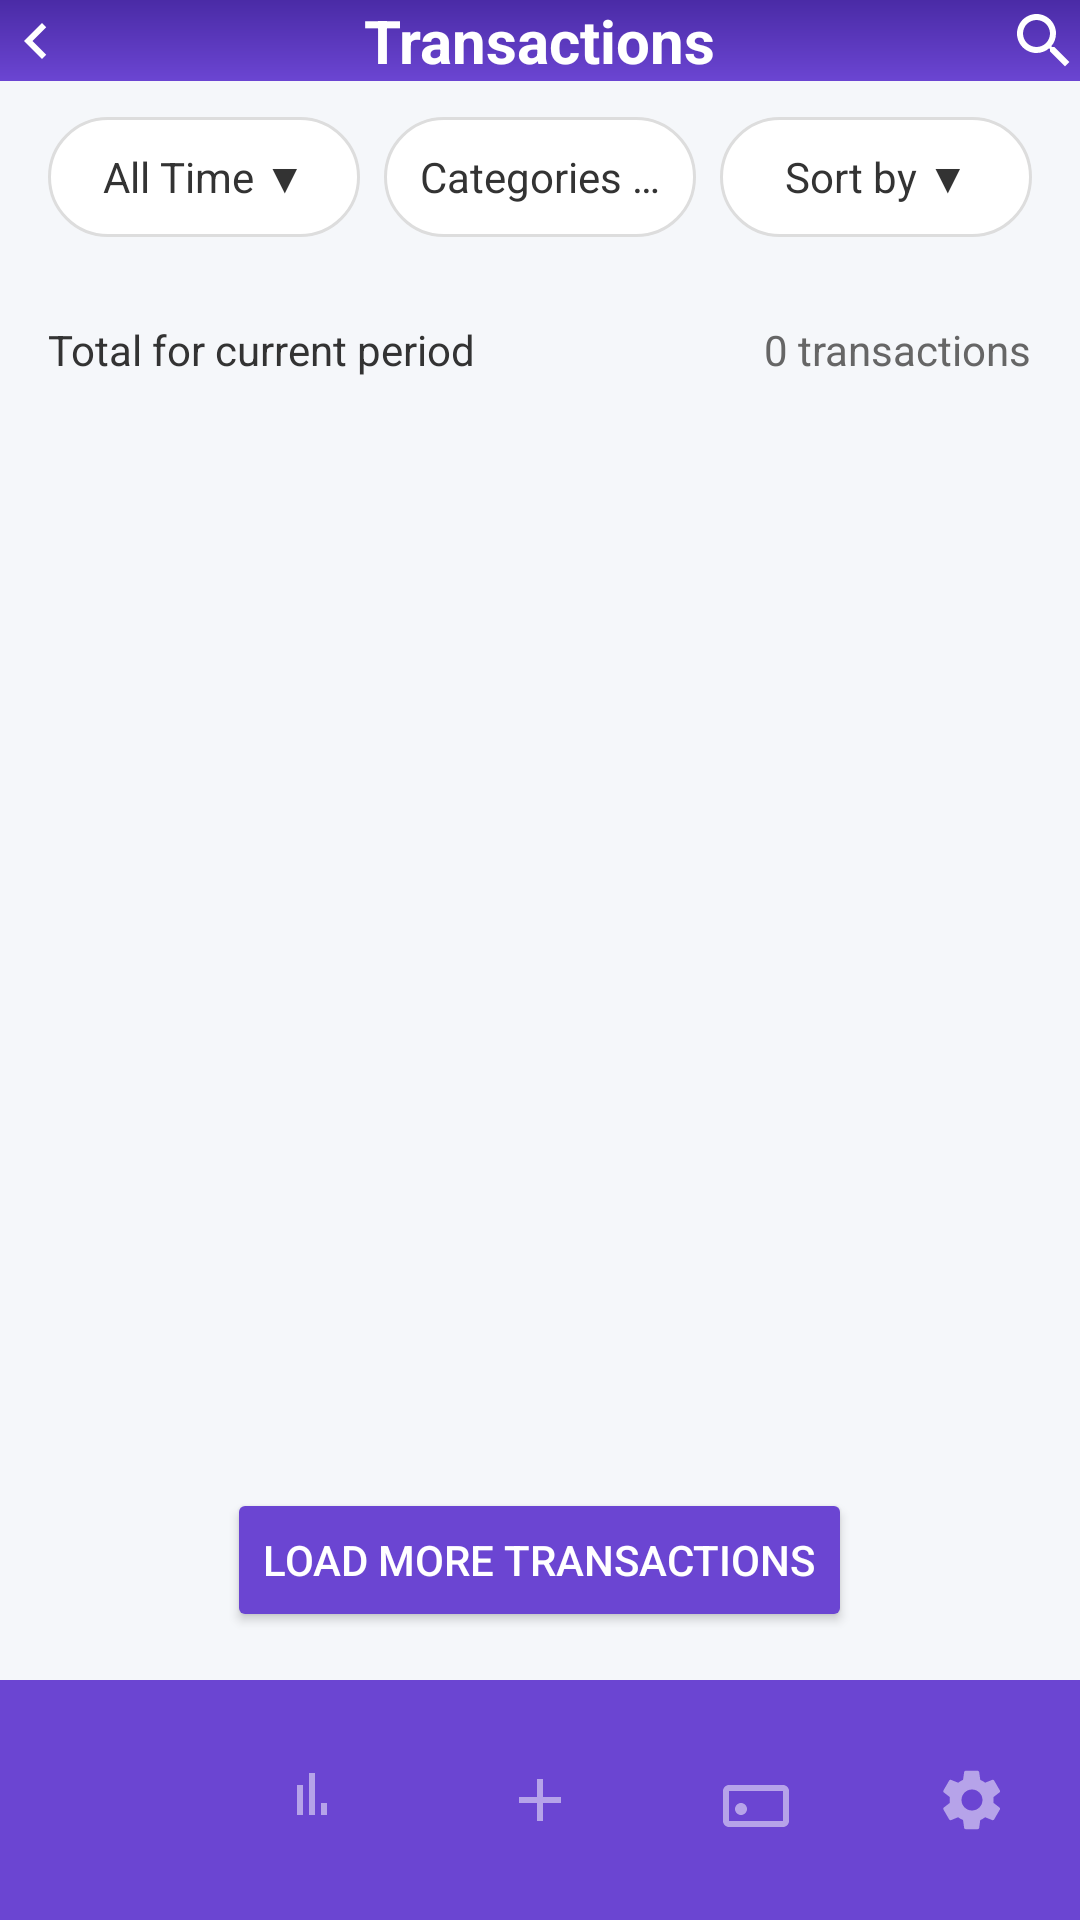

Point at icon controls on the screen. Image size 1080 x 1920, points as (x,y).
back: (36,41)
search: (1044,41)
